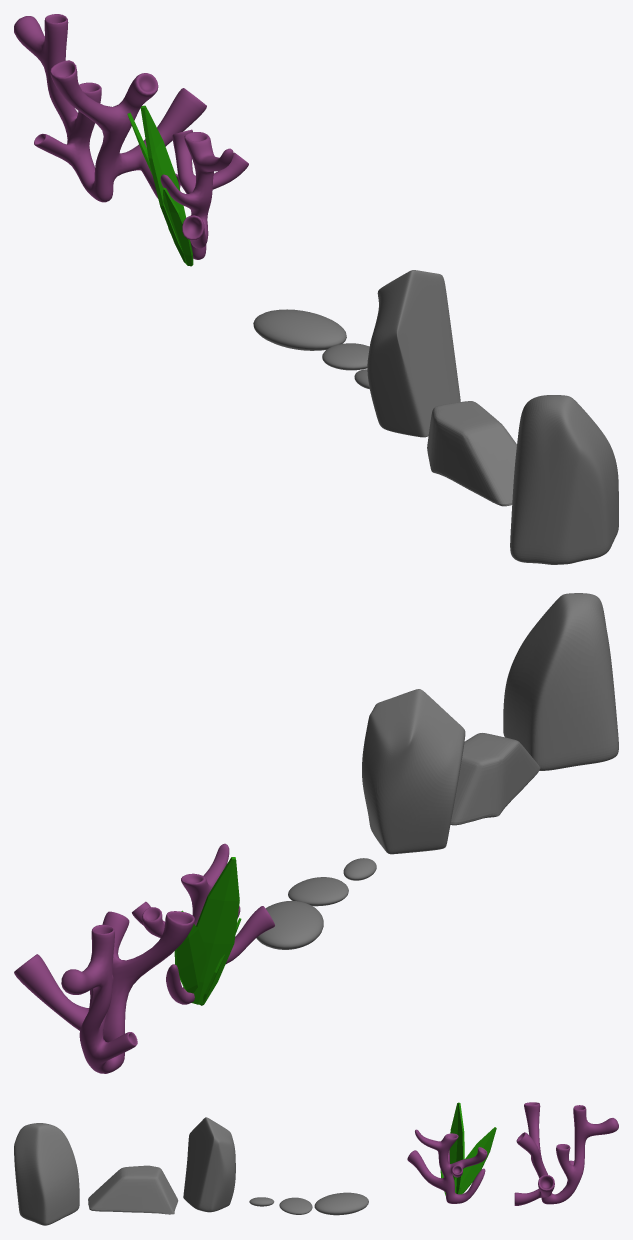
The model's file is SeaElements.fbx.
3 views of the same model, one above another, from view 1: azimuth 30°, elevation 25°; view 2: azimuth 150°, elevation 25°; view 3: azimuth 270°, elevation 25° (orthographic). The views are drawn at different scales.
Parts seen in each view (by area): view 1: Cube.002, Cube.001, Sphere.003, Sphere.004, Cube, Sphere, Plane.001, Sphere.001, Plane.002; view 2: Cube.002, Sphere.003, Cube.001, Sphere.004, Cube, Plane.001, Sphere, Plane.003, Sphere.001; view 3: Cube.002, Sphere.003, Cube.001, Sphere.004, Cube, Sphere, Plane.001, Plane.003, Sphere.001, Sphere.002.
Part boxes in pixels (bbox=[...]): Cube.002: bbox=[510, 395, 618, 564]; Cube.001: bbox=[14, 14, 206, 202]; Sphere.003: bbox=[367, 270, 460, 437]; Sphere.004: bbox=[427, 401, 516, 506]; Cube: bbox=[160, 129, 248, 259]; Sphere: bbox=[253, 309, 346, 350]; Plane.001: bbox=[140, 105, 186, 262]; Sphere.001: bbox=[322, 343, 369, 370]; Plane.002: bbox=[163, 187, 193, 266]; Cube.002: bbox=[503, 593, 618, 770]; Sphere.003: bbox=[362, 689, 465, 854]; Cube.001: bbox=[14, 911, 194, 1073]; Sphere.004: bbox=[450, 733, 540, 825]; Cube: bbox=[132, 843, 274, 1004]; Plane.001: bbox=[191, 857, 239, 1004]; Sphere: bbox=[256, 901, 323, 949]; Plane.003: bbox=[174, 910, 206, 993]; Sphere.001: bbox=[288, 877, 348, 906]; Cube.002: bbox=[14, 1123, 79, 1225]; Sphere.003: bbox=[183, 1117, 235, 1212]; Cube.001: bbox=[514, 1102, 618, 1205]; Sphere.004: bbox=[88, 1165, 178, 1214]; Cube: bbox=[407, 1129, 487, 1203]; Sphere: bbox=[314, 1192, 368, 1215]; Plane.001: bbox=[449, 1102, 464, 1194]; Plane.003: bbox=[454, 1127, 496, 1194]; Sphere.001: bbox=[279, 1197, 312, 1214]; Sphere.002: bbox=[249, 1197, 274, 1206].
Bounding box in the file's own units: 266 × 278 × 1532.
